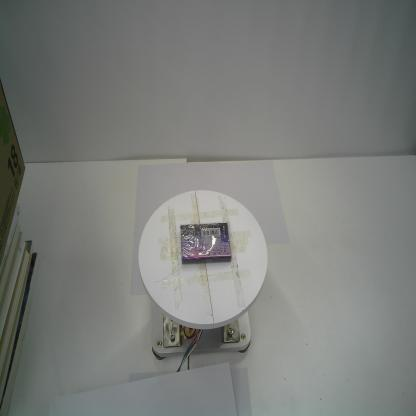Gum: (180, 224, 232, 263)
